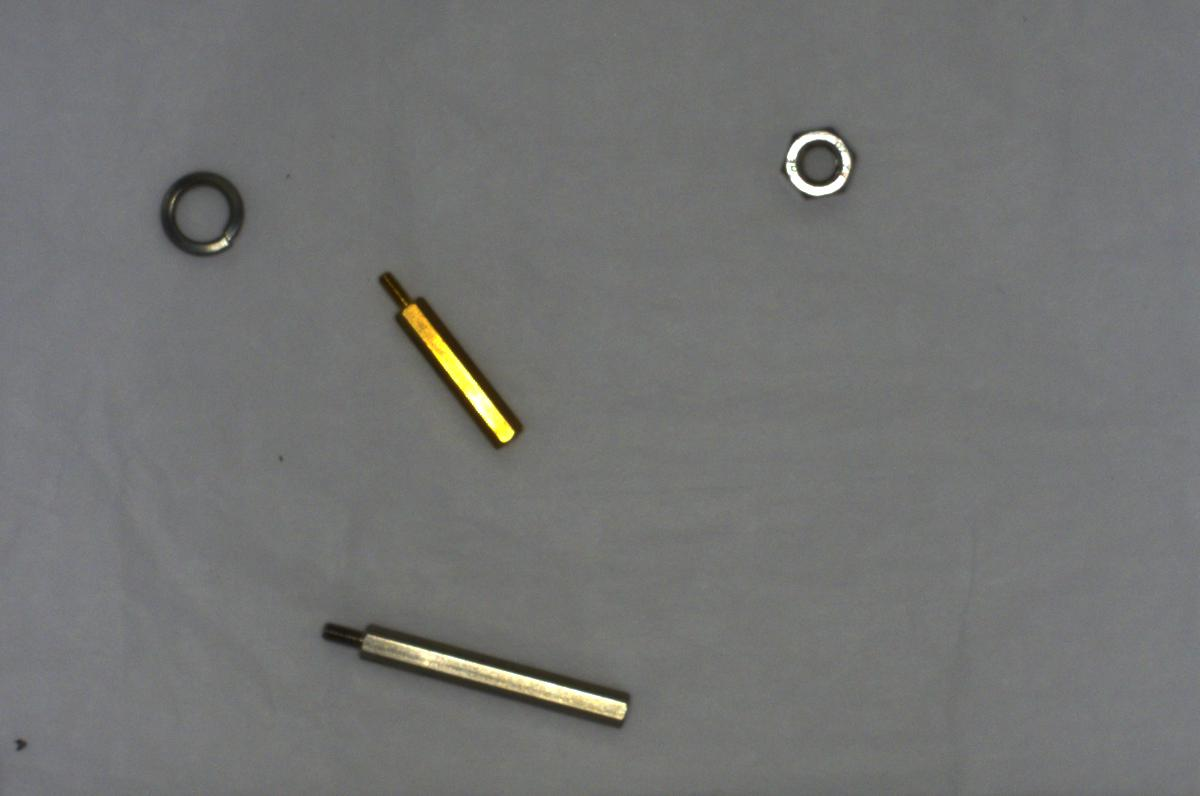Hexagon nut: (777, 120, 859, 205)
Hexagon pillar: (365, 266, 525, 455)
Hexagonal steel column: (308, 607, 635, 734)
Spring washer: (155, 167, 250, 258)
